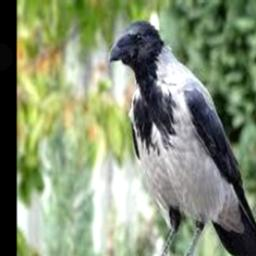Crow: (109, 20, 256, 256)
